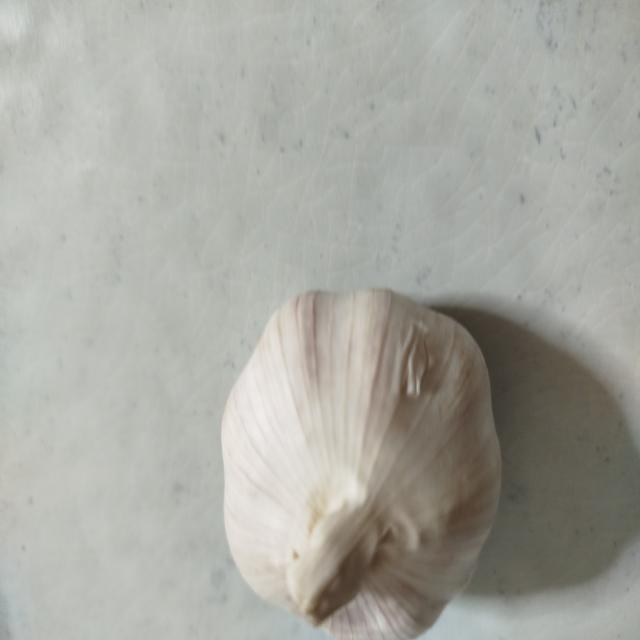garlic: (220, 286, 502, 639)
